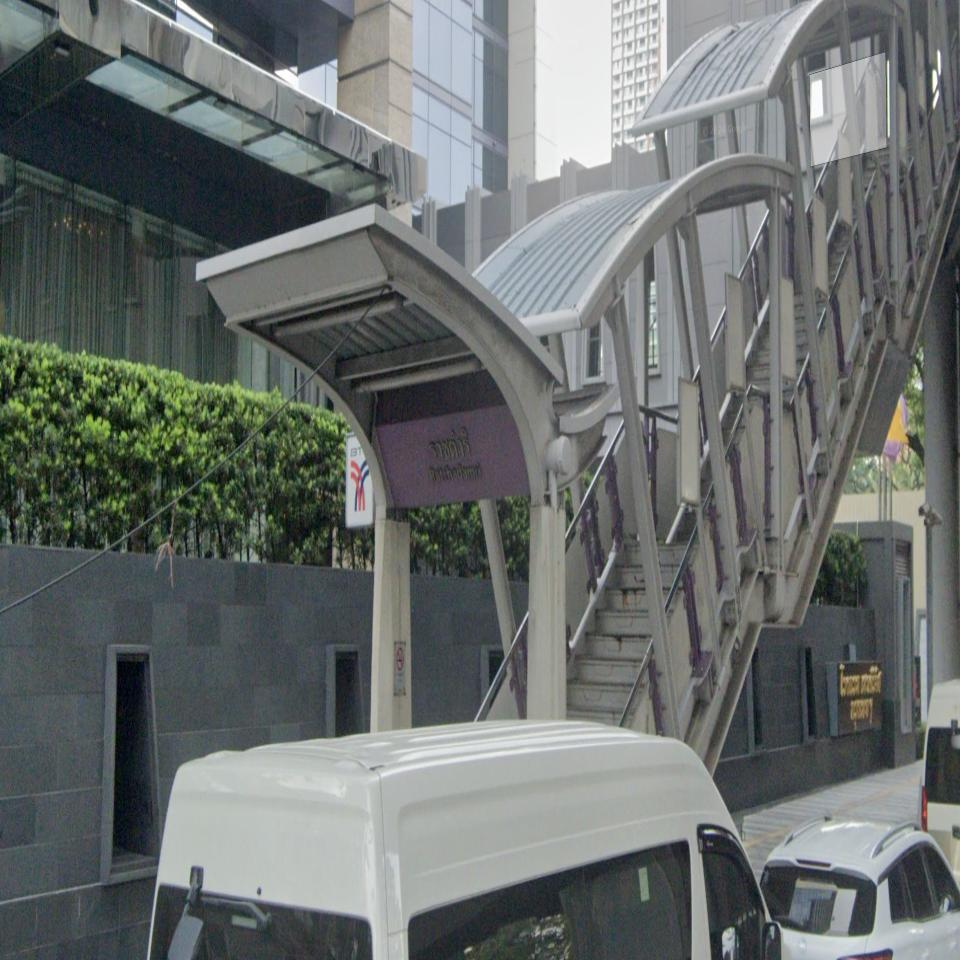Ratchadamri: (345, 403, 531, 528), (376, 403, 530, 511)
